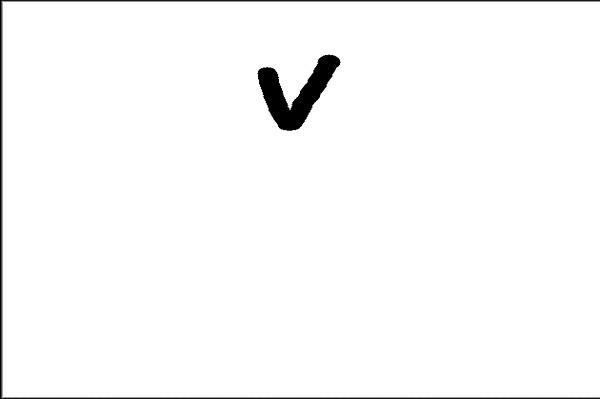V: (251, 44, 347, 130)
